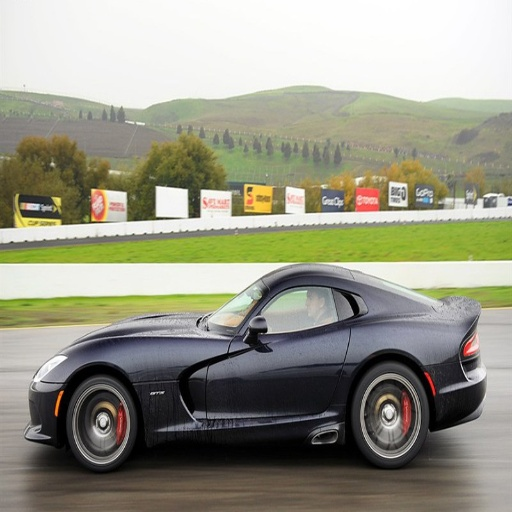back_bumper: (435, 363, 484, 423)
back_left_door: (305, 277, 367, 414)
